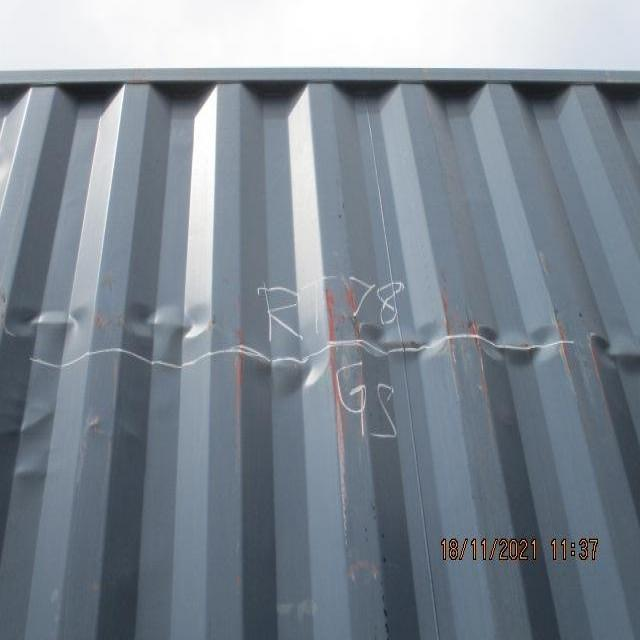Dent: (0, 292, 640, 399)
Minor-Dent: (0, 399, 59, 485)
